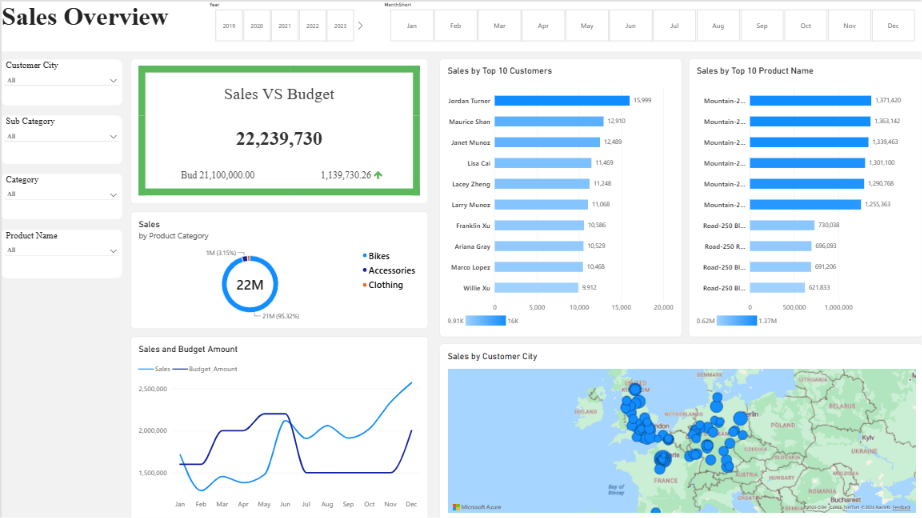

The page's visual inventory and layout, read from the dashboard file:
{"tool":"powerbi","page":{"name":"Sales Overview","canvas":[1920,1080],"ordinal":0},"visuals":[{"type":"textbox","box":[0,0,1920,104],"z":0},{"type":"slicer","fields":{"Values":["DIM_Customers.Customer City"]},"box":[0,121.1,251.3,95.4],"z":1000},{"type":"slicer","fields":{"Values":["DIM_Products.Sub Category"]},"box":[0,236.6,251.3,100.9],"z":2000},{"type":"slicer","title":"Category","fields":{"Values":["DIM_Products.Product Category"]},"box":[0,357.7,251.3,95.4],"z":3000},{"type":"slicer","fields":{"Values":["DIM_Products.Product Name"]},"box":[0,475.1,251.3,100.9],"z":4000},{"type":"slicer","fields":{"Values":["DIM_Calendar.Year"]},"box":[424,0,328,84],"z":5000},{"type":"slicer","fields":{"Values":["DIM_Calendar.MonthShort"]},"box":[788.7,0,1132,84],"z":6000},{"type":"BBED0A4D4D8D44CE93CF2DAFADEE466C","fields":{"actual":["Key Measures.Sales"],"target2":["Key Measures.Sales - Budget"],"target1":["Key Measures.Budget_Amount"]},"box":[269.6,119.2,620,302.7],"z":7000},{"type":"donutChart","fields":{"Category":["DIM_Products.Product Category"],"Y":["Key Measures.Sales"]},"box":[269.6,436.6,620,244],"z":7001},{"type":"lineChart","title":"Sales and Budget Amount","fields":{"Category":["DIM_Calendar.MonthShort"],"Y":["Key Measures.Sales","Key Measures.Budget_Amount"]},"box":[269.6,698.8,620,381.5],"z":7002},{"type":"barChart","title":"Sales by Top 10 Customers","fields":{"Category":["DIM_Customers.Full Name"],"Y":["Key Measures.Sales"]},"box":[911.6,119.2,504.4,579.6],"z":7003},{"type":"barChart","title":"Sales by Top 10 Product Name","fields":{"Category":["DIM_Products.Product Name"],"Y":["Key Measures.Sales"]},"box":[1430.7,119.2,489.7,579.6],"z":7004},{"type":"azureMap","fields":{"Category":["DIM_Customers.Customer City"],"Size":["Key Measures.Sales"]},"box":[911.6,711.7,1008.8,368.7],"z":7005}]}

Visuals, with their boxes in screenshot pixels (x1, y1, x2, y2), scaled from the page's 1920x1080 canvas onto the 922x518 screenshot:
textbox: rect(0, 0, 921, 50)
slicer - DIM_Customers.Customer City: rect(0, 58, 121, 104)
slicer - DIM_Products.Sub Category: rect(0, 113, 121, 162)
"Category" slicer: rect(0, 172, 121, 217)
slicer - DIM_Products.Product Name: rect(0, 228, 121, 276)
slicer - DIM_Calendar.Year: rect(204, 0, 361, 40)
slicer - DIM_Calendar.MonthShort: rect(379, 0, 921, 40)
BBED0A4D4D8D44CE93CF2DAFADEE466C - Key Measures.Sales x Key Measures.Sales - Budget: rect(129, 57, 427, 202)
donutChart - DIM_Products.Product Category x Key Measures.Sales: rect(129, 209, 427, 326)
"Sales and Budget Amount" lineChart: rect(129, 335, 427, 517)
"Sales by Top 10 Customers" barChart: rect(438, 57, 680, 335)
"Sales by Top 10 Product Name" barChart: rect(687, 57, 921, 335)
azureMap - DIM_Customers.Customer City x Key Measures.Sales: rect(438, 341, 921, 517)
